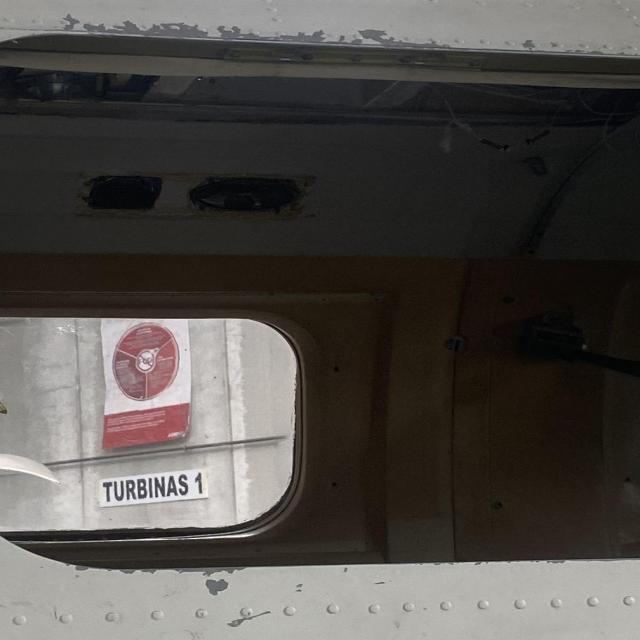Paint-off: (40, 14, 234, 43), (203, 22, 349, 46), (335, 25, 461, 50), (62, 563, 244, 577), (203, 574, 229, 597), (521, 36, 535, 54), (292, 580, 307, 593), (371, 578, 389, 586)
Scratch: (227, 610, 272, 628)
